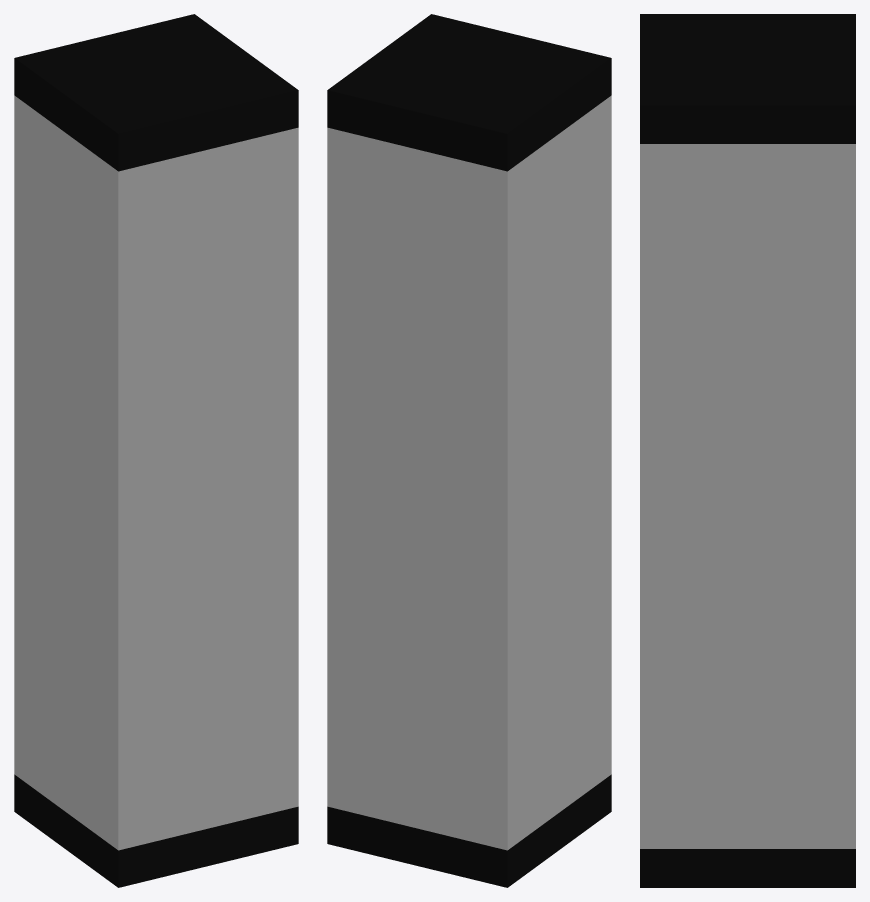
Rendered from FuturisticLight_On.glb.
The picture shows the model from 3 angles, left to right: view 1: azimuth 30°, elevation 25°; view 2: azimuth 150°, elevation 25°; view 3: azimuth 270°, elevation 25°; orthographic projection. The views are drawn at different scales.
Parts seen in each view (by area): view 1: futuristic_lamp_On; view 2: futuristic_lamp_On; view 3: futuristic_lamp_On.
Boxes of the visible parts, <box> form: futuristic_lamp_On: <box>14,14,298,887</box>; futuristic_lamp_On: <box>327,14,611,887</box>; futuristic_lamp_On: <box>640,14,855,887</box>.
Size of what is drawn, in the model's own units: 0.3118 by 1.25 by 0.3118.
Materials: 1 (1 with a texture image).
